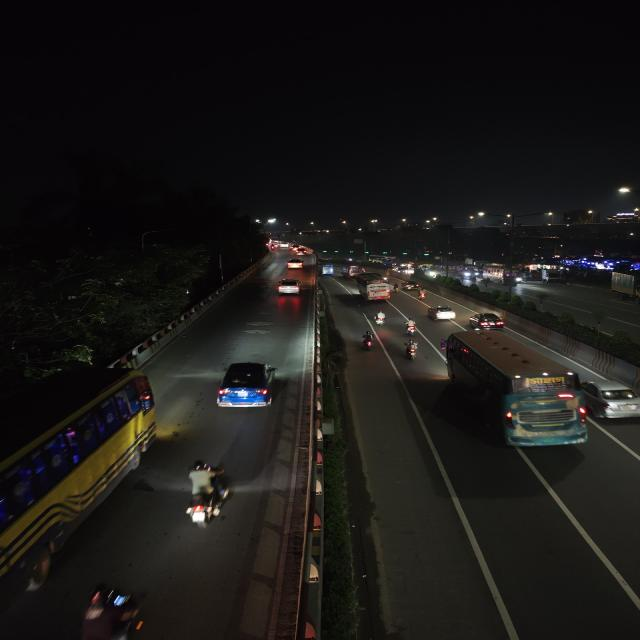bus: (0, 364, 157, 638), (439, 333, 588, 451), (355, 273, 393, 303), (485, 265, 523, 285), (318, 262, 334, 276), (347, 266, 362, 276)
car: (212, 358, 281, 413), (579, 377, 640, 422), (467, 311, 508, 332), (426, 302, 457, 324), (276, 278, 302, 296), (285, 258, 305, 271), (403, 280, 420, 290), (293, 246, 309, 256)
motorcycle: (71, 581, 147, 640), (182, 458, 236, 531), (401, 337, 422, 364), (359, 330, 376, 352), (402, 317, 419, 337), (373, 308, 388, 327), (415, 288, 428, 302), (392, 281, 401, 294)
truck: (609, 271, 640, 307)
